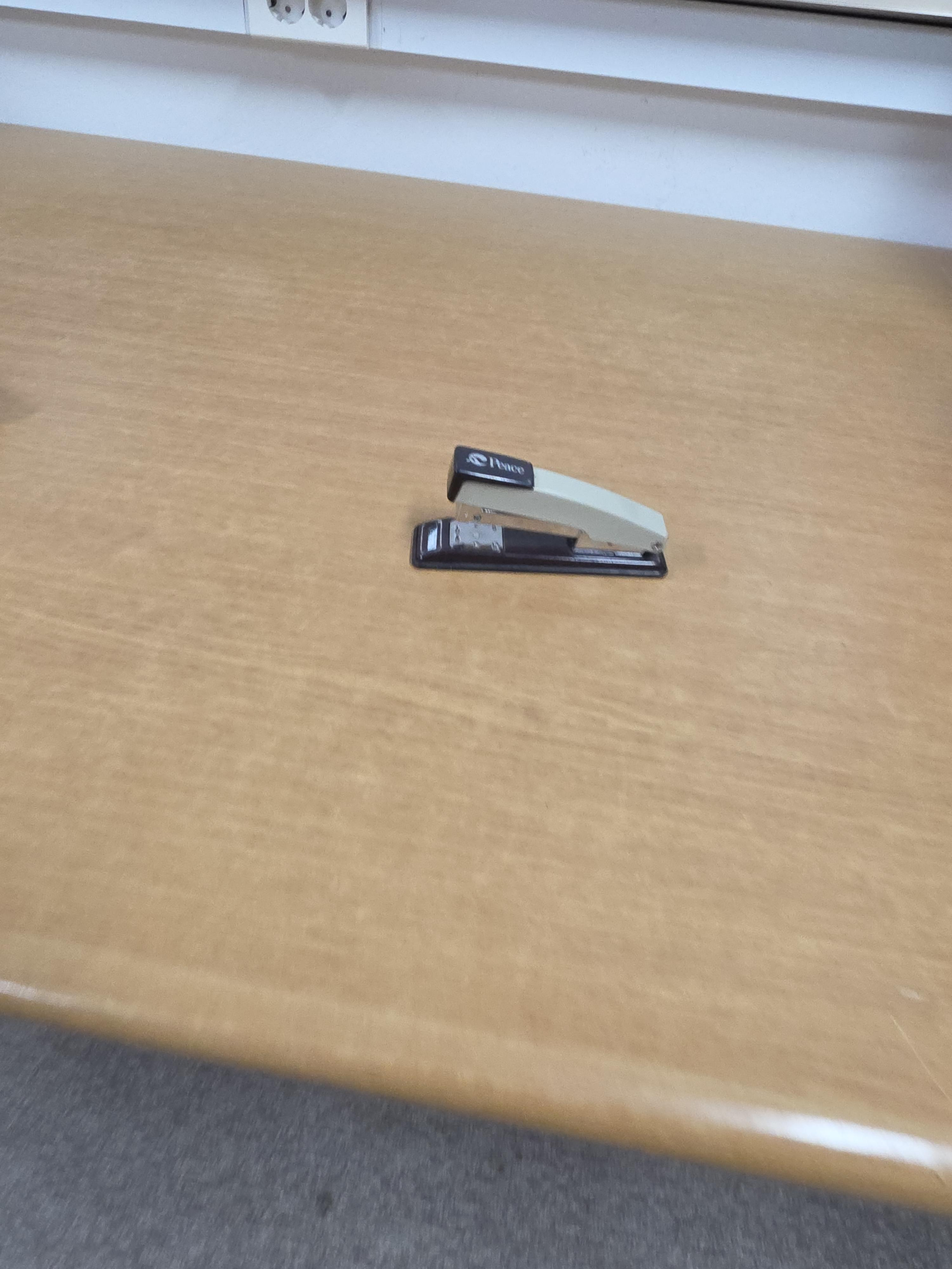stapler: (408, 444, 669, 578)
